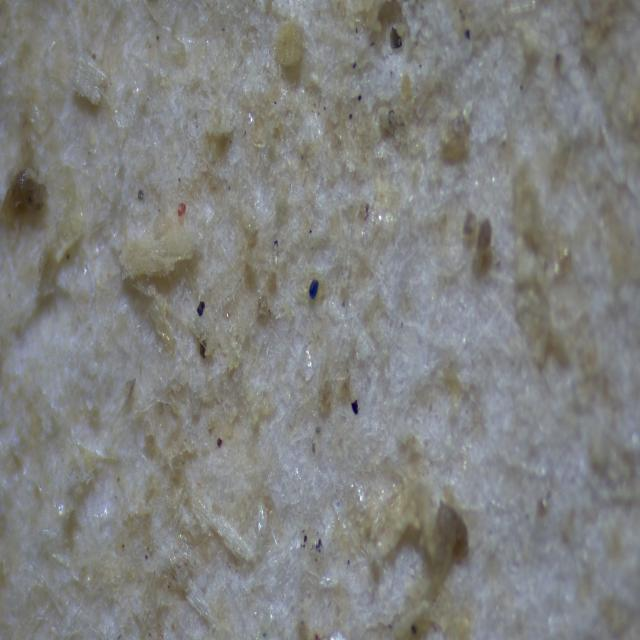microplastic: (307, 278, 322, 299)
